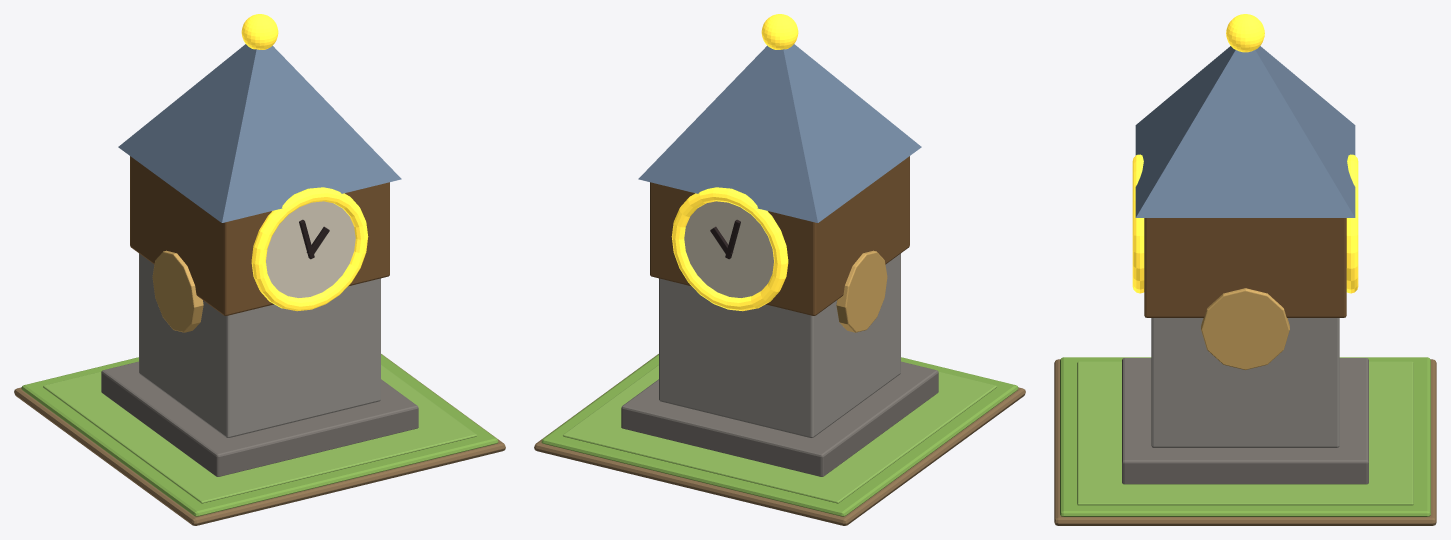
Rendered from clock_tower_lv5.glb.
3 renders of one model, left to right at view 1: azimuth 30°, elevation 25°; view 2: azimuth 150°, elevation 25°; view 3: azimuth 270°, elevation 25°, orthographic. The views are drawn at different scales.
Visible parts, largest first — view 1: CT_SpireRoof, CT_LowerShaft, CT_UpperHousing, Base_Inner, CT_Plinth, Base_Grass, ClockDial_-1, Base_Dirt, ClockBezel_-1, CT_SideGear_-1, CT_ApexOrb; view 2: CT_SpireRoof, CT_LowerShaft, CT_UpperHousing, Base_Inner, CT_Plinth, Base_Grass, ClockDial_1, Base_Dirt, ClockBezel_1, CT_SideGear_-1, CT_ApexOrb; view 3: CT_SpireRoof, CT_LowerShaft, CT_UpperHousing, Base_Inner, CT_Plinth, Base_Grass, CT_SideGear_1, Base_Dirt, ClockBezel_1, ClockBezel_-1, CT_ApexOrb.
Boxes of the visible parts, bbox=[...] form: CT_SpireRoof: bbox=[118, 44, 401, 222]; CT_LowerShaft: bbox=[139, 253, 380, 438]; CT_UpperHousing: bbox=[130, 156, 389, 315]; Base_Inner: bbox=[43, 365, 476, 503]; CT_Plinth: bbox=[101, 361, 418, 476]; Base_Grass: bbox=[21, 354, 498, 516]; ClockDial_-1: bbox=[266, 201, 355, 297]; Base_Dirt: bbox=[14, 354, 505, 525]; ClockBezel_-1: bbox=[251, 187, 368, 311]; CT_SideGear_-1: bbox=[152, 250, 203, 332]; CT_ApexOrb: bbox=[241, 14, 278, 49]; CT_SpireRoof: bbox=[638, 44, 921, 222]; CT_LowerShaft: bbox=[659, 253, 900, 438]; CT_UpperHousing: bbox=[650, 156, 909, 315]; Base_Inner: bbox=[563, 365, 996, 503]; CT_Plinth: bbox=[621, 361, 938, 476]; Base_Grass: bbox=[541, 354, 1018, 516]; ClockDial_1: bbox=[684, 201, 773, 297]; Base_Dirt: bbox=[534, 354, 1025, 525]; ClockBezel_1: bbox=[671, 187, 788, 311]; CT_SideGear_-1: bbox=[836, 250, 887, 332]; CT_ApexOrb: bbox=[761, 14, 798, 49]; CT_SpireRoof: bbox=[1135, 46, 1355, 217]; CT_LowerShaft: bbox=[1151, 318, 1339, 447]; CT_UpperHousing: bbox=[1144, 218, 1346, 317]; Base_Inner: bbox=[1077, 361, 1413, 505]; CT_Plinth: bbox=[1122, 358, 1368, 484]; Base_Grass: bbox=[1060, 357, 1430, 516]; CT_SideGear_1: bbox=[1201, 288, 1289, 369]; Base_Dirt: bbox=[1054, 359, 1436, 525]; ClockBezel_1: bbox=[1346, 154, 1358, 293]; ClockBezel_-1: bbox=[1132, 154, 1144, 293]; CT_ApexOrb: bbox=[1226, 14, 1264, 52].
Size of the model in its own units: 2.76 by 3.43 by 2.76.
